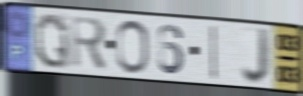6: (157, 23, 185, 77)
I: (209, 24, 218, 82)
J: (240, 25, 272, 87)
O: (115, 18, 151, 75)
Q: (33, 12, 71, 71)
R: (70, 14, 109, 74)
